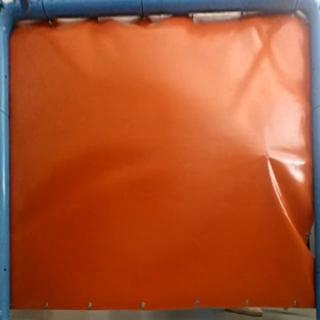Hit-hRxx: (254, 150, 274, 162)
